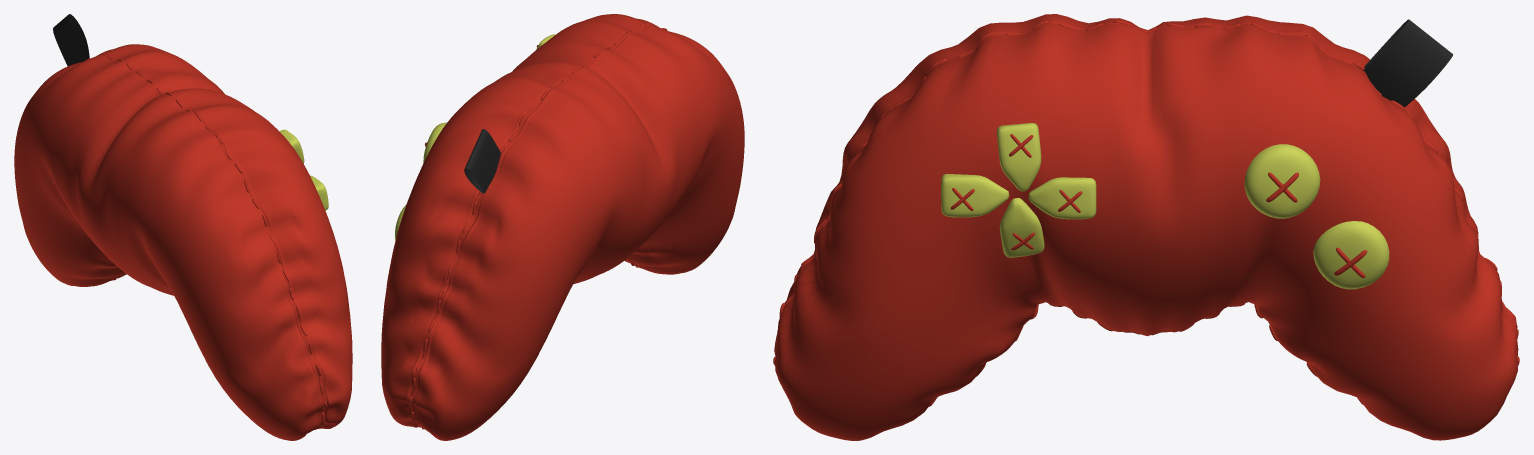
File: manetted.gltf
3 views of the same model, side by side, from view 1: azimuth 30°, elevation 25°; view 2: azimuth 150°, elevation 25°; view 3: azimuth 270°, elevation 25° (orthographic). The views are drawn at different scales.
Parts seen in each view (by area): view 1: Couture.001; view 2: Couture.001; view 3: Couture.001.
Boxes of the visible parts, x1,y1,x2,y2 form: Couture.001: (14, 14, 352, 440); Couture.001: (381, 14, 744, 440); Couture.001: (773, 14, 1519, 440).
Bounding box in the file's own units: 1.08 × 1.63 × 2.82.
